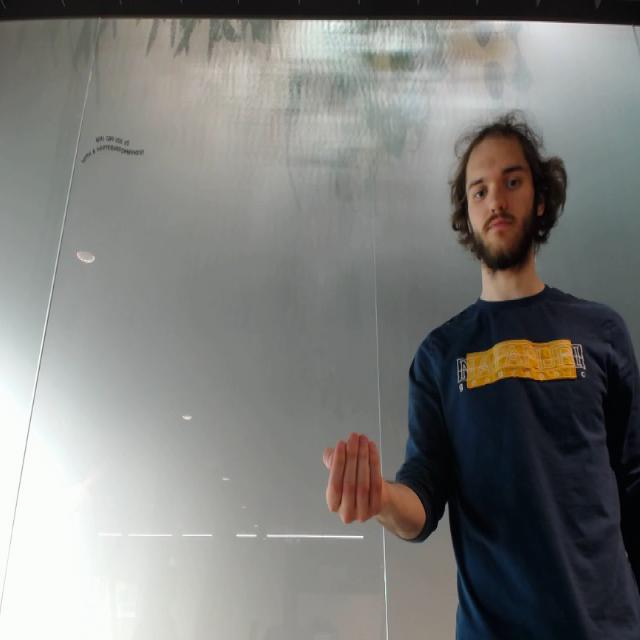forward: (320, 426, 388, 534)
